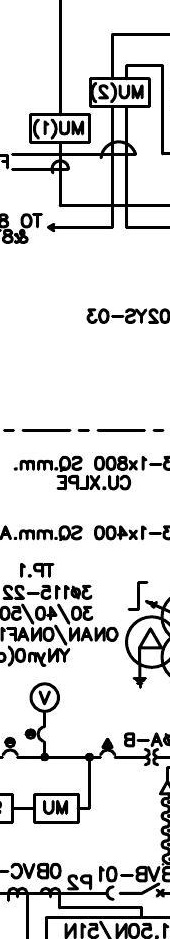MU: (88, 76, 151, 109), (28, 113, 91, 145), (32, 792, 81, 825)
v_m: (28, 681, 61, 714)
